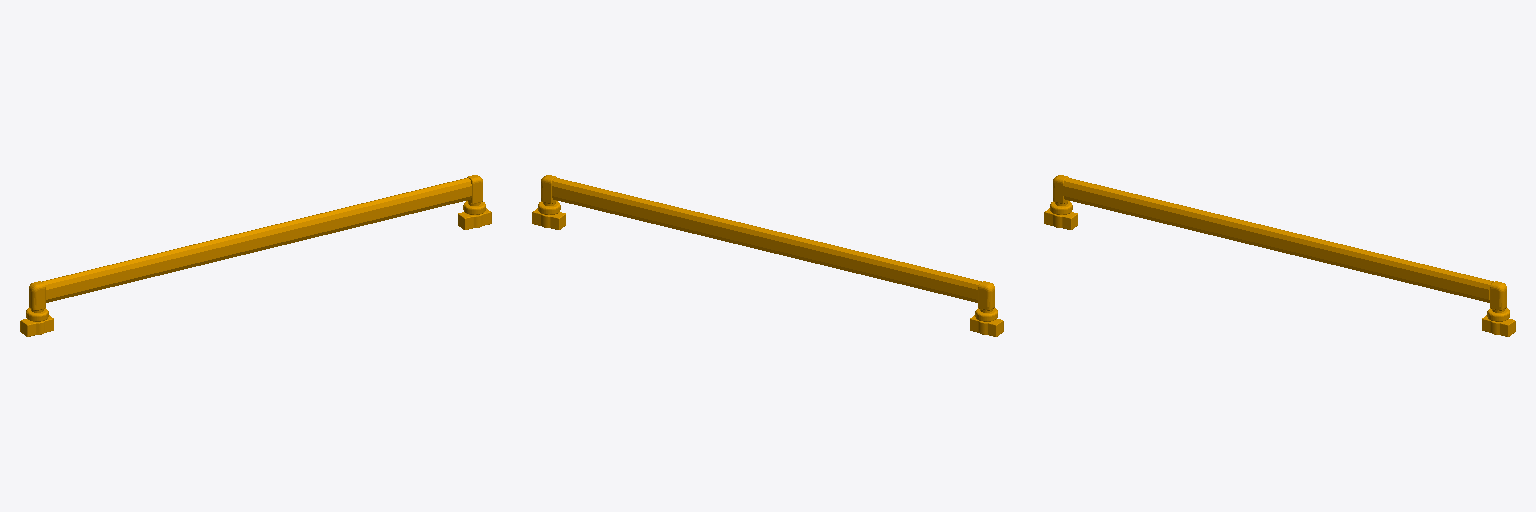
robot.urdf — handrail_30:
<?xml version="1.0"?>

<!-- Copyright (c) 2017, United States Government, as represented by the     -->
<!-- Administrator of the National Aeronautics and Space Administration.     -->
<!--                                                                         -->
<!-- All rights reserved.                                                    -->
<!--                                                                         -->
<!-- The Astrobee platform is licensed under the Apache License, Version 2.0 -->
<!-- (the "License"); you may not use this file except in compliance with    -->
<!-- the License. You may obtain a copy of the License at                    -->
<!--                                                                         -->
<!--     http://www.apache.org/licenses/LICENSE-2.0                          -->
<!--                                                                         -->
<!-- Unless required by applicable law or agreed to in writing, software     -->
<!-- distributed under the License is distributed on an "AS IS" BASIS,       -->
<!-- WITHOUT WARRANTIES OR CONDITIONS OF ANY KIND, either express or         -->
<!-- implied. See the License for the specific language governing            -->
<!-- permissions and limitations under the License.                          -->

<robot name="handrail_30" xmlns:xacro="http://www.ros.org/wiki/xacro">
  <link name="body">
    <inertial>
      <mass value="20"/>
      <origin xyz="0 0 0"/>
      <inertia ixx="1" ixy="0" ixz="0" iyy="1" iyz="0" izz="1"/>
    </inertial>
    <visual name="body_visual">
      <origin xyz="0 0 0" rpy="0 0 0" />
      <geometry>
        <mesh filename="package://astrobee_handrail_30/meshes/handrail_30.dae"/>
      </geometry>
    </visual>
    <collision name="body_collision">
      <origin xyz="0 0 0" rpy="0 0 0" />
      <geometry>
        <mesh filename="package://astrobee_handrail_30/meshes/handrail_30.dae"/>
      </geometry>
    </collision>
  </link>
  <gazebo>
    <static>true</static>
  </gazebo>
</robot>

--- Render facts (derived) ---
3 views of the same robot in one strip: view 1: azimuth 30°, elevation 25°; view 2: azimuth 150°, elevation 25°; view 3: azimuth 330°, elevation 25° (orthographic).
Model handrail_30 with 1 links and 0 joints (none), rooted at body, posed every joint at zero.
Links seen in each view (by area): view 1: body; view 2: body; view 3: body.
Link boxes in pixels (x1=…): body: x1=20, y1=175, x2=491, y2=336; body: x1=532, y1=175, x2=1003, y2=336; body: x1=1044, y1=175, x2=1515, y2=336.
Size in the robot's own frame: 0.7834 by 0.0331 by 0.0782 metres.
1 mesh visuals loaded from 1 distinct referenced files (1 Collada DAE).